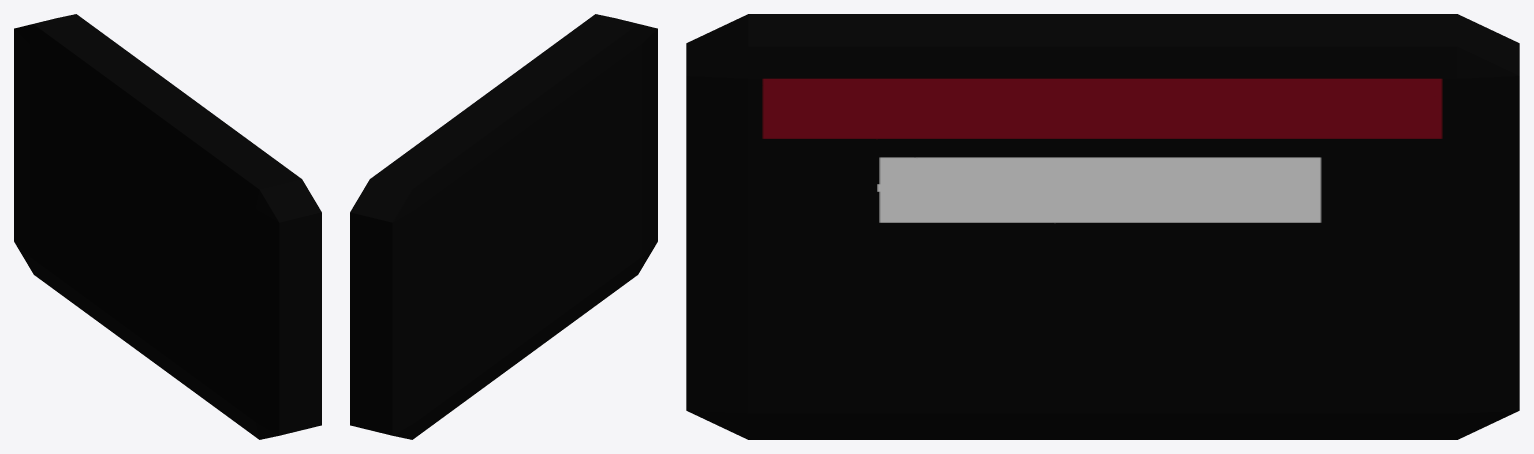
File: Keycard.fbx
The picture shows the model from 3 angles, left to right: view 1: azimuth 30°, elevation 25°; view 2: azimuth 150°, elevation 25°; view 3: azimuth 270°, elevation 25°; orthographic projection. The views are drawn at different scales.
Visible parts, largest first — view 1: Keycard; view 2: Keycard; view 3: Keycard.
Part boxes in pixels (x1=…): Keycard: x1=14, y1=14, x2=321, y2=439; Keycard: x1=350, y1=14, x2=657, y2=439; Keycard: x1=686, y1=14, x2=1519, y2=439.
Size of the model in its own units: 115 by 550 by 1055.
